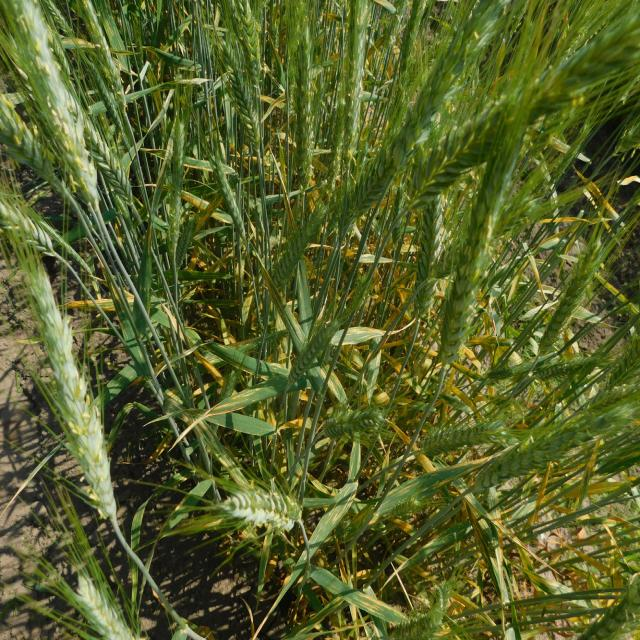wheat-yellowrust: (257, 254, 306, 340), (390, 422, 435, 473), (181, 190, 229, 230), (524, 470, 550, 529), (193, 348, 226, 387), (572, 548, 612, 577), (444, 379, 479, 412), (59, 299, 115, 312), (380, 351, 403, 375), (242, 283, 254, 324), (204, 257, 226, 272), (382, 338, 409, 348), (189, 244, 199, 270)
